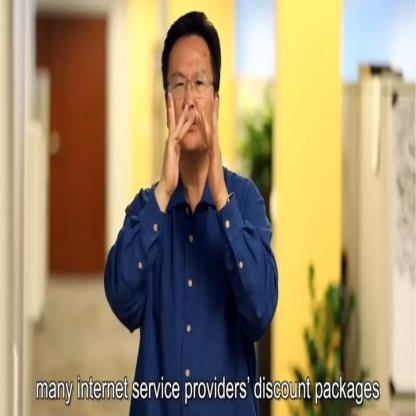Internet: (156, 81, 230, 198)
